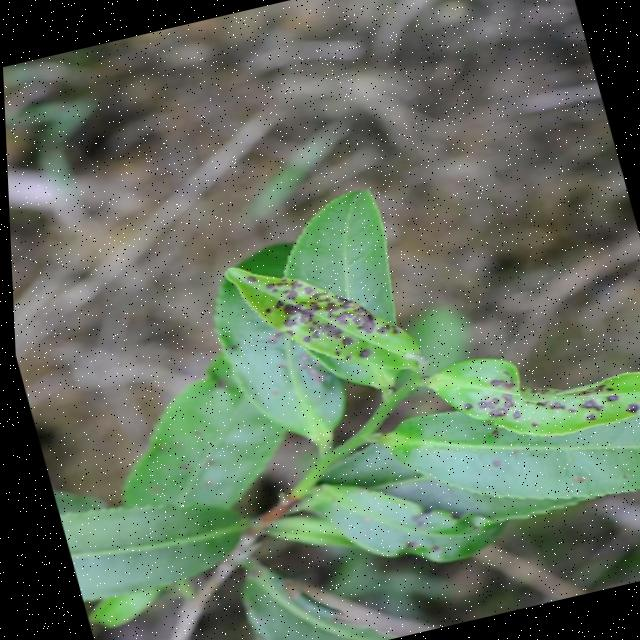Tea red scab: (454, 330, 640, 455), (253, 244, 392, 364)
